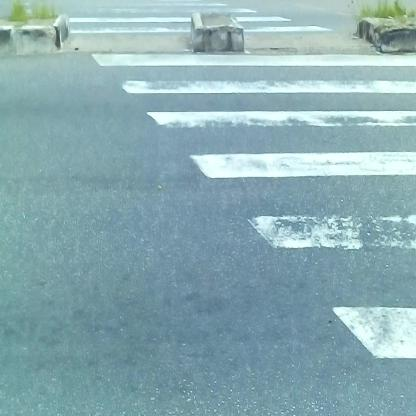crosswalk: (87, 47, 415, 359)
